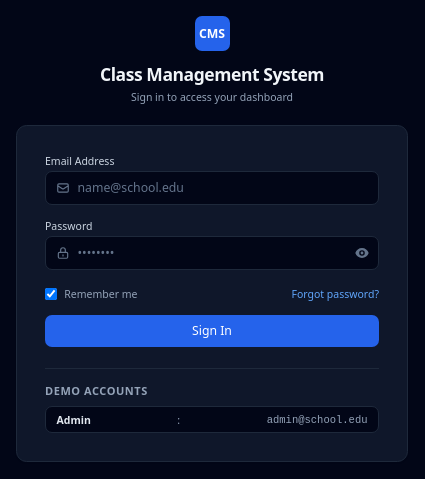
Test: Authentication Flow › allows user to click demo account button to fill credentials
The image size is (425, 479).
Expected: the button "Sign In" is enabled, [45,315,379,347]
Step 1. Click the button "Admin : admin@school.edu" → (74, 420), box [45,406,379,433]
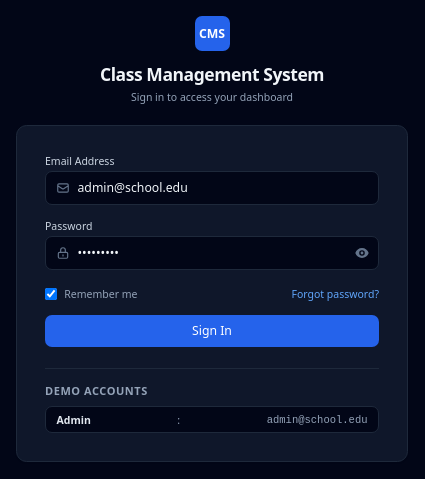
Result: the field labelled "Email Address" holds "admin@school.edu" at [45,171,379,205]
Result: the password field labelled "Password" holds "Admin1234" at [45,236,379,270]
